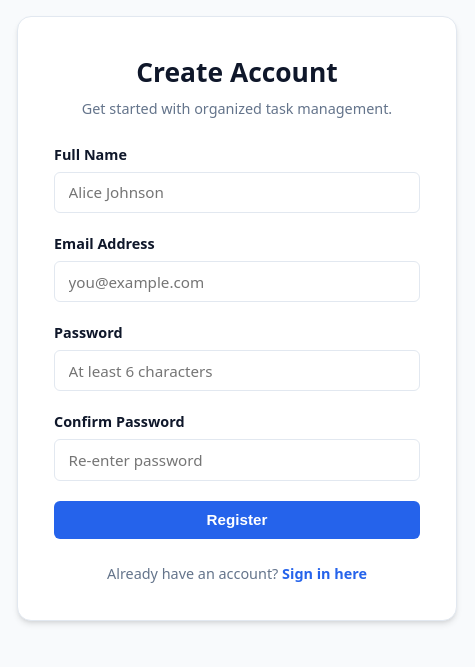
Authentication UI Components › Register Page › validates password mismatch on register
Type "Bob Smith" into the field labelled "Full Name" at point(237, 192), box [54,172,420,213]
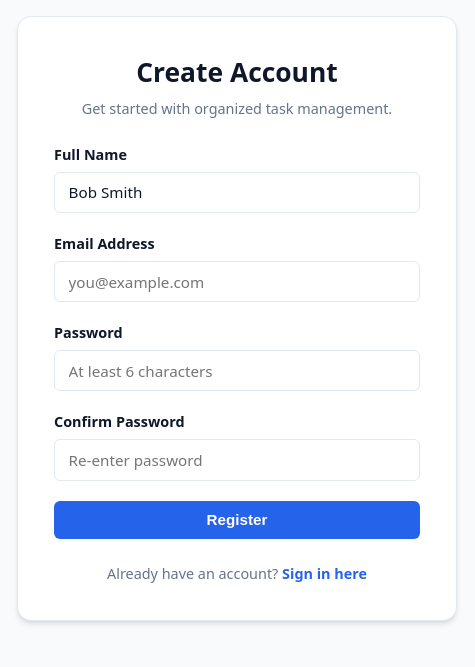
Type "bob@example.com" into the field labelled "Email Address" at point(237, 282), box [54,261,420,302]
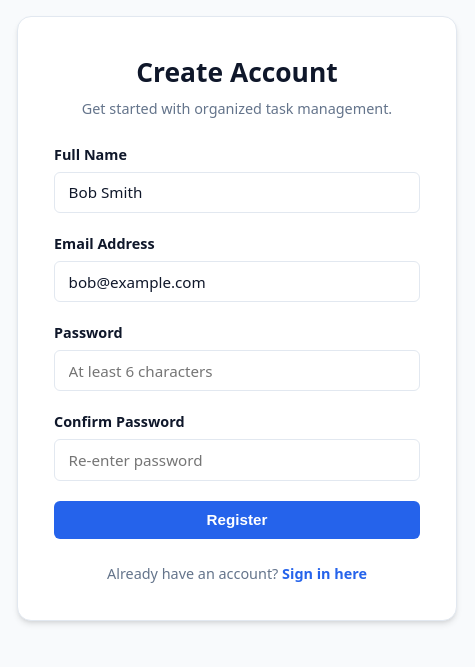
Type "Password123!" into the password field labelled "Password" at point(237, 371), box [54,350,420,391]
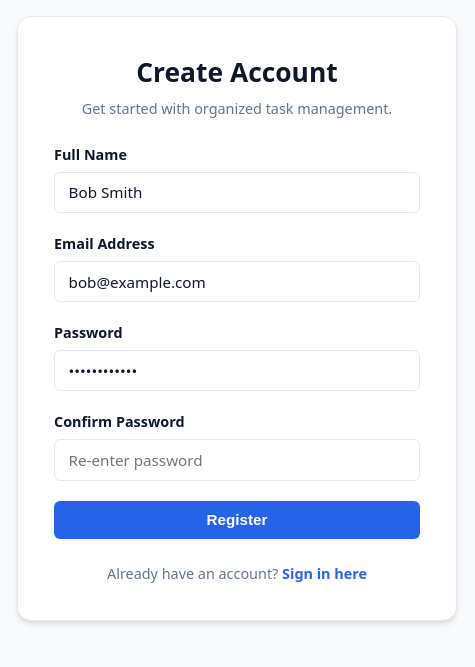
Type "DifferentPassword!" into the password field labelled "Confirm Password" at point(237, 460), box [54,439,420,481]
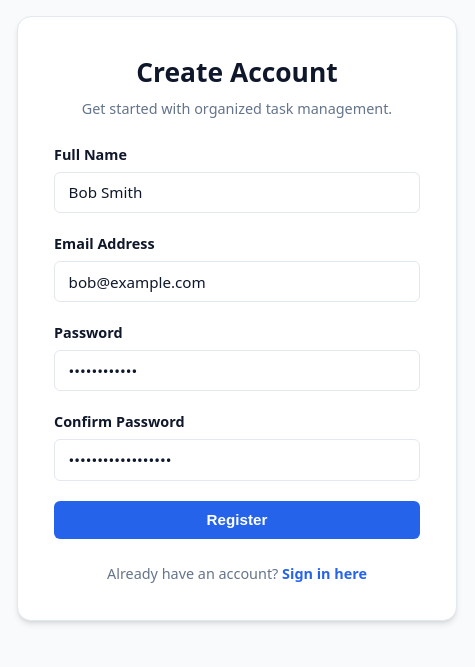
Click the button "Register" at point(237, 520), box [54,501,420,539]
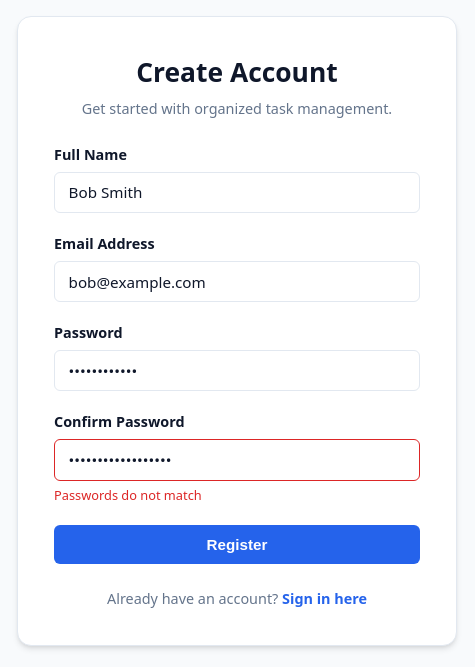
expect the text "Passwords do not match" is shown: met, box [54,486,202,504]
